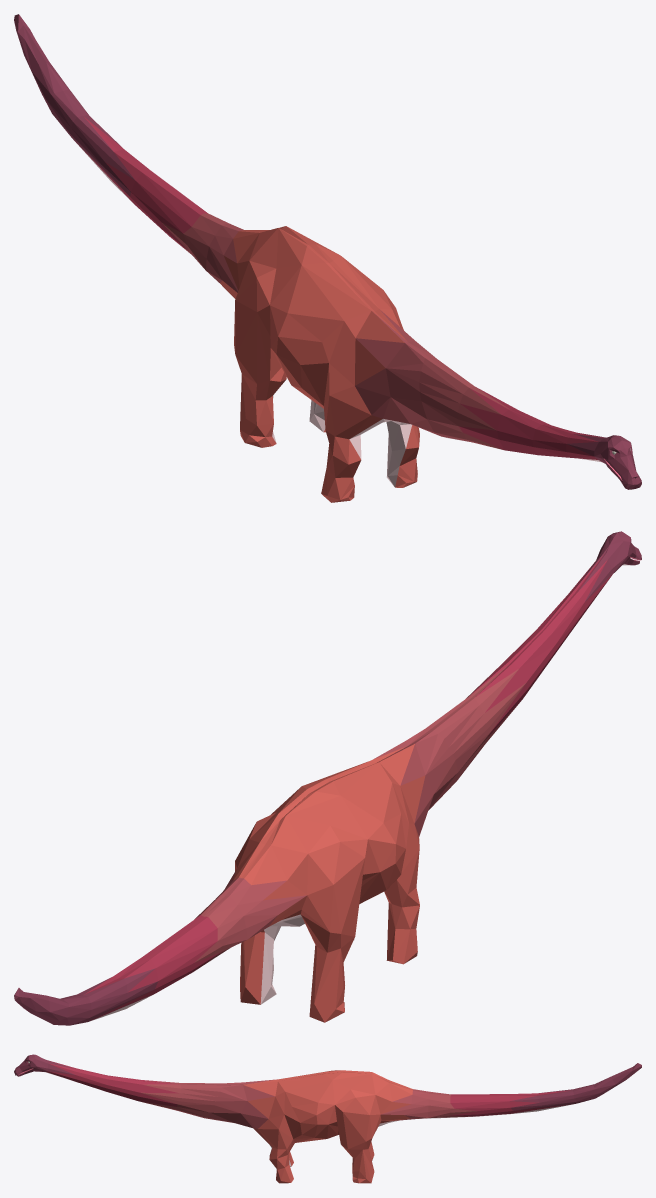
File: RW_LP_DN_Barosaurus.fbx
3 renders of one model, top to bottom at view 1: azimuth 30°, elevation 25°; view 2: azimuth 150°, elevation 25°; view 3: azimuth 270°, elevation 25°, orthographic. The views are drawn at different scales.
Parts seen in each view (by area): view 1: RW_LP_DN_Barosaurus; view 2: RW_LP_DN_Barosaurus; view 3: RW_LP_DN_Barosaurus.
Boxes of the visible parts, left/top/right/bottom form: RW_LP_DN_Barosaurus: left=14, top=14, right=641, bottom=502; RW_LP_DN_Barosaurus: left=14, top=531, right=641, bottom=1025; RW_LP_DN_Barosaurus: left=14, top=1054, right=641, bottom=1183.
Size of the model in its own units: 8.31 by 15.65 by 75.22.
